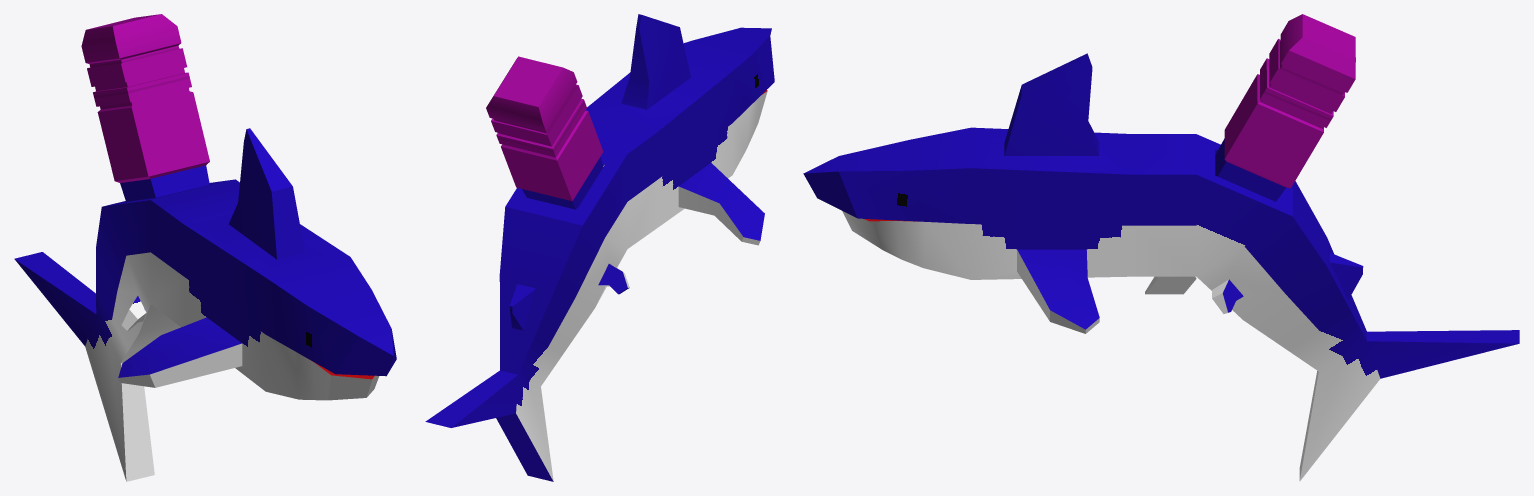
The model's file is PP_SHARK 1.fbx.
3 renders of one model, left to right at view 1: azimuth 30°, elevation 25°; view 2: azimuth 150°, elevation 25°; view 3: azimuth 270°, elevation 25°, orthographic. The views are drawn at different scales.
Visible parts, largest first — view 1: Tank, Sbark.001; view 2: Tank, Sbark.001; view 3: Tank, Sbark.001.
Boxes of the visible parts, left/top/right/bottom form: Tank: left=14, top=128, right=396, bottom=481; Sbark.001: left=81, top=14, right=209, bottom=201; Tank: left=425, top=14, right=774, bottom=481; Sbark.001: left=486, top=56, right=603, bottom=209; Tank: left=803, top=53, right=1519, bottom=481; Sbark.001: left=1215, top=14, right=1355, bottom=201.
Bounding box in the file's own units: 574 × 954 × 1380.
